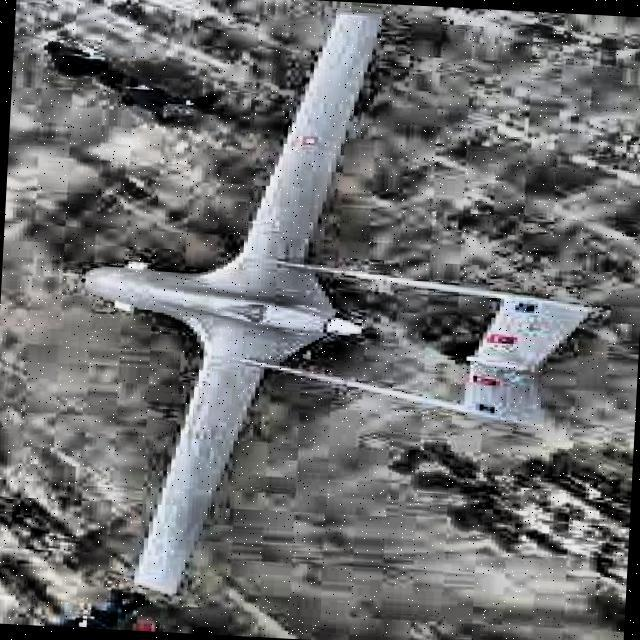iha: (46, 0, 605, 618)
